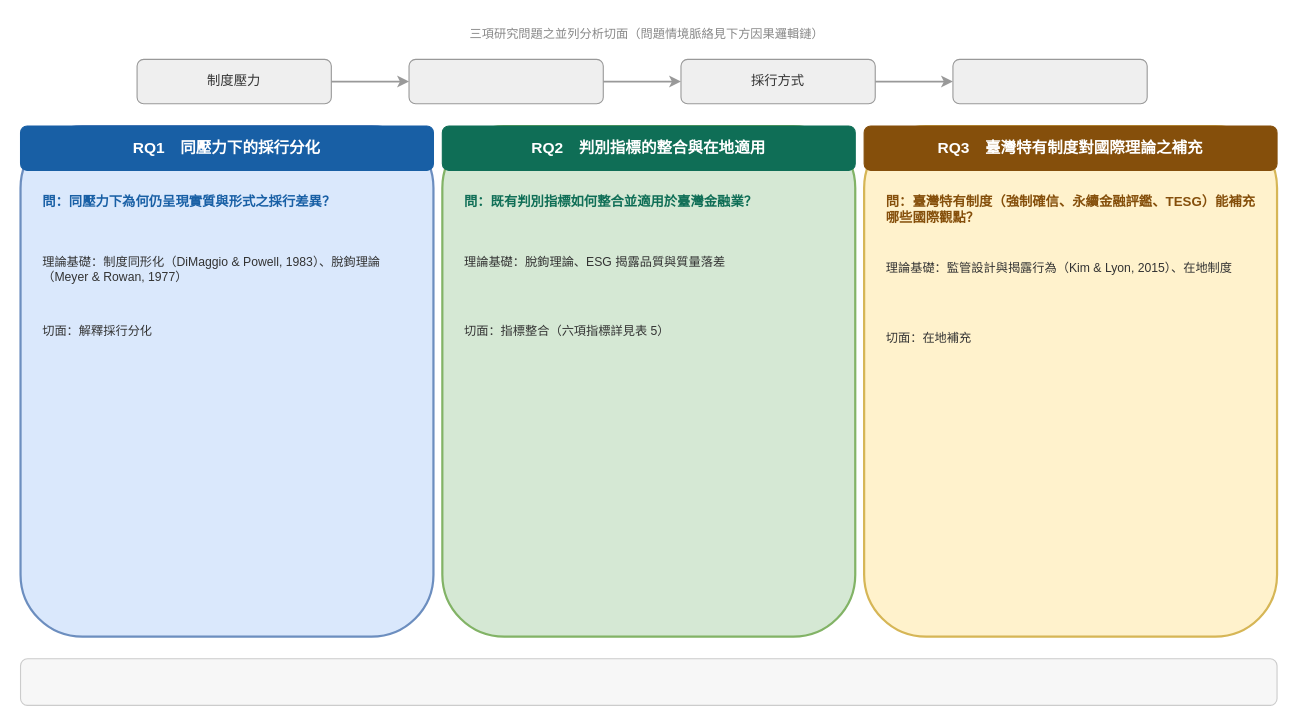
Some shapes in this 1296 by 725 pixel diagram are drawn without their labels. Each missing label, with the centre of its shape:
判別工具：實質／形式採行之比較（表 1）與六項判別指標（表 5）；示範性檢視設計見「陸、研究方法」。: [648,681]
採行動機: [505,81]
漂綠風險: [1049,81]
